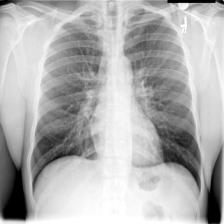normal: (29, 7, 206, 204)
